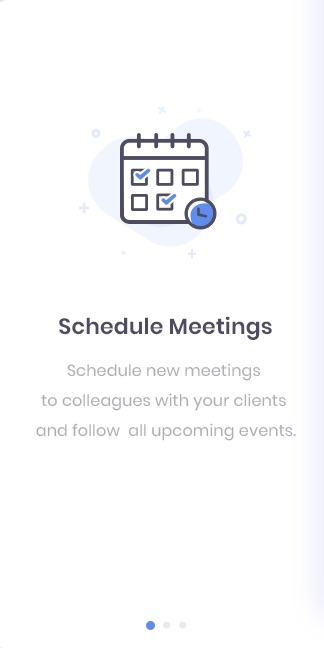Image: (79, 107, 252, 259)
PageIndicator: (146, 620, 187, 631)
Text: (37, 363, 297, 441), (60, 317, 273, 341)
